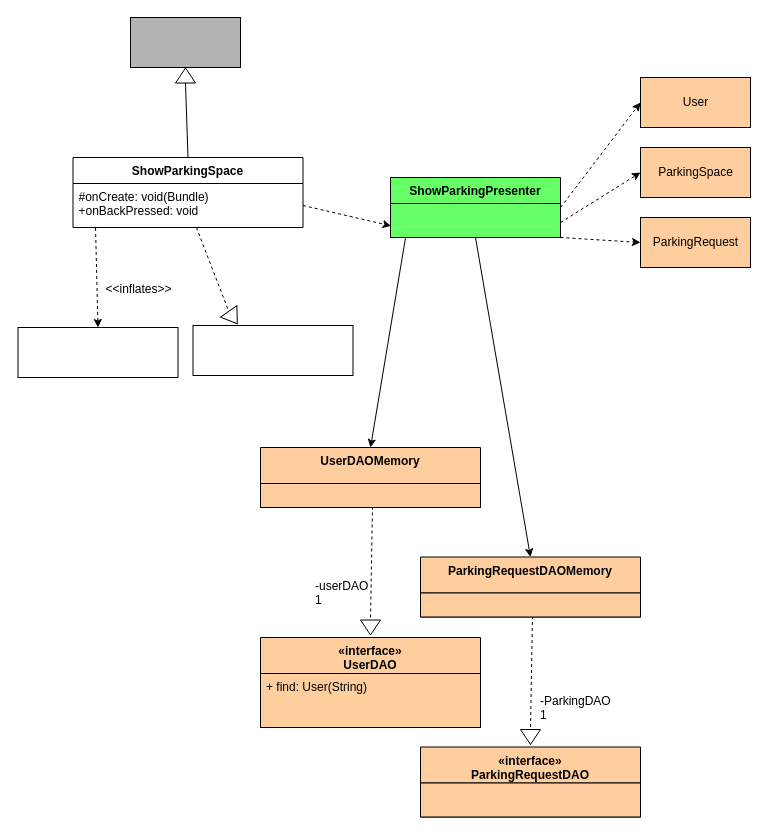
This 768x837 diagram has some shape labels left out. Each missing label, with the centre of its shape:
"+ save: void(ParkingRequest)" belongs at point (530, 799).
"+add: void (ParkingSpace)" belongs at point (475, 220).
"AppCompatActivity" belongs at point (185, 42).
"«interface» ShowParking View" belongs at point (272, 350).
"«layout» activity_show_parking.xml" belongs at point (97, 352).
